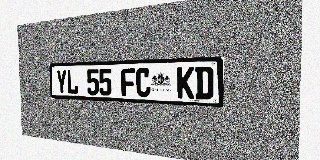5: (99, 69, 112, 96), (87, 69, 99, 95)
C: (136, 68, 151, 97)
D: (195, 66, 214, 100)
F: (121, 68, 135, 97)
K: (177, 67, 194, 99)
L: (67, 69, 78, 95)
Y: (56, 70, 67, 94)
